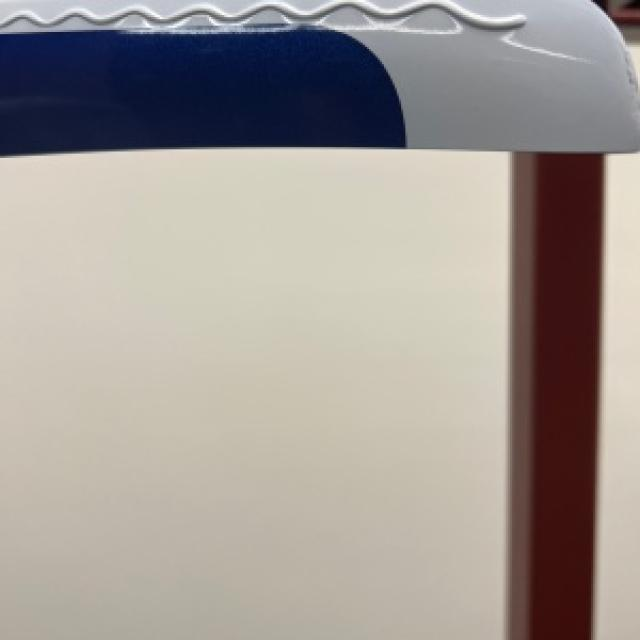healthy: (0, 147, 506, 638), (139, 45, 275, 139)
